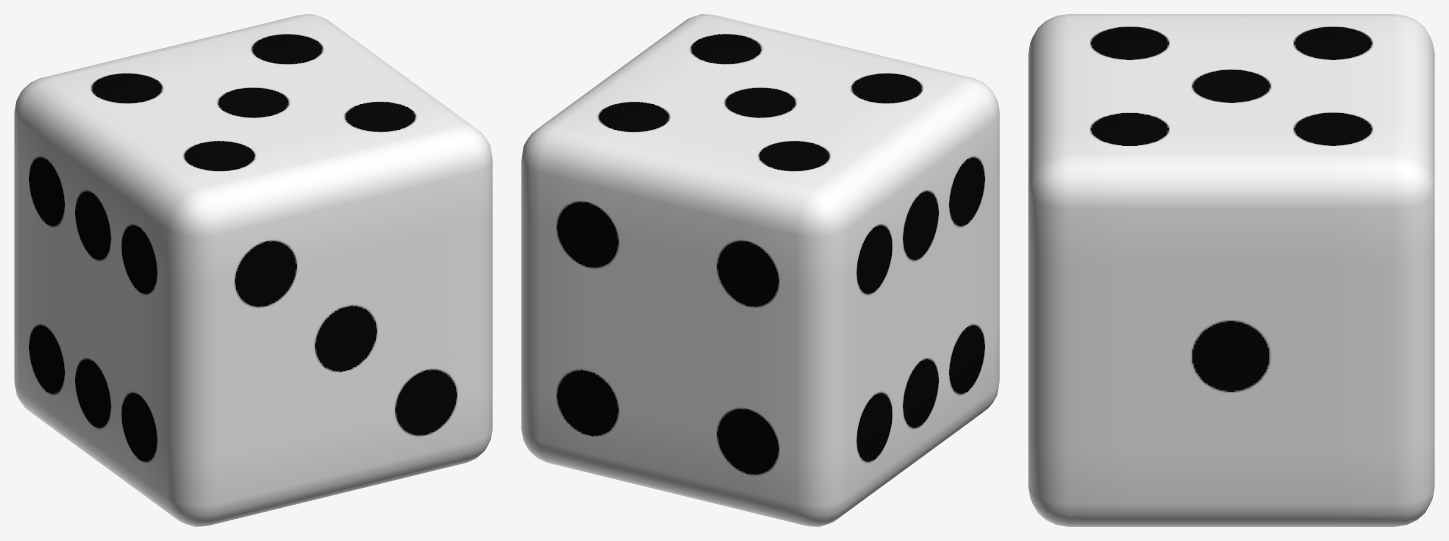
File: Dice.fbx
3 views of the same model, side by side, from view 1: azimuth 30°, elevation 25°; view 2: azimuth 150°, elevation 25°; view 3: azimuth 270°, elevation 25° (orthographic). The views are drawn at different scales.
Parts seen in each view (by area): view 1: Cube; view 2: Cube; view 3: Cube.
Boxes of the visible parts, left/top/right/bottom form: Cube: left=14, top=14, right=492, bottom=526; Cube: left=521, top=14, right=999, bottom=526; Cube: left=1028, top=14, right=1434, bottom=526.
Bounding box in the file's own units: 200 × 200 × 200.
1 material, 1 textured.
